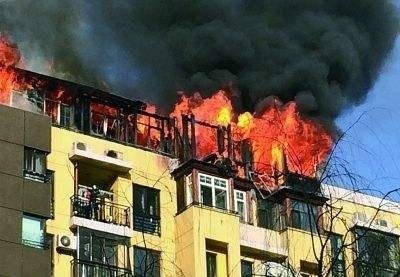fire: (141, 86, 330, 177)
